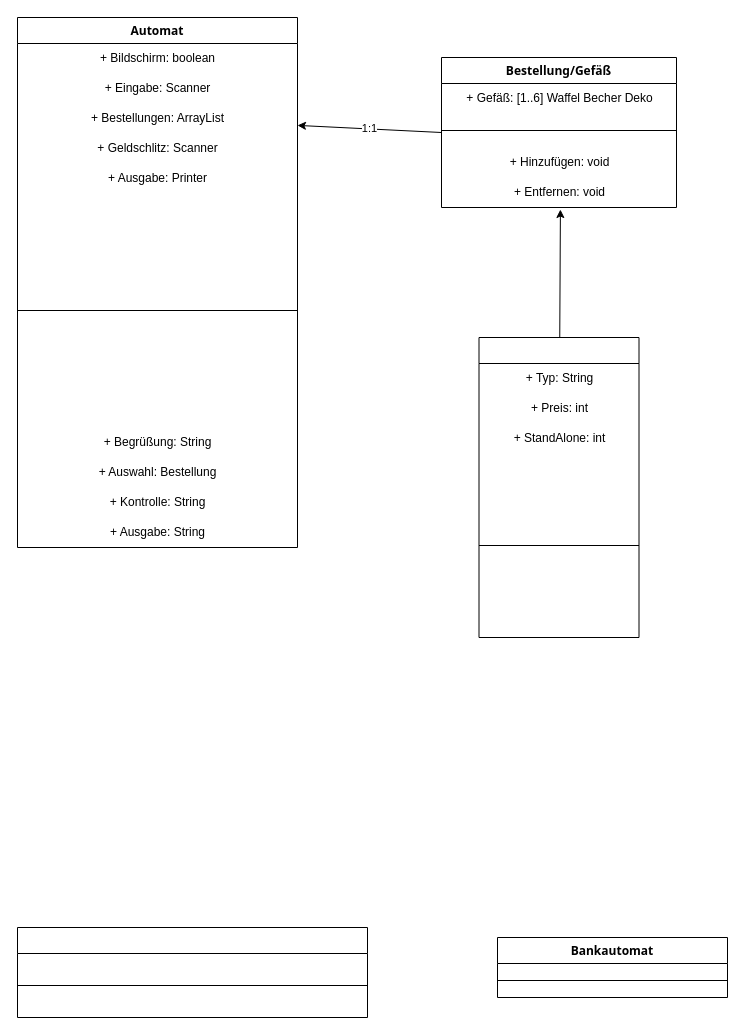
This 745x1035 diagram has some shape labels left out. The shapes that lost their labels are listed below. From the top down, each one's box as (x1, y1, x2, y2) in pixels, then its label:
(478, 336, 639, 638): Eis Deko
(16, 926, 368, 1018): Bankfiliale
